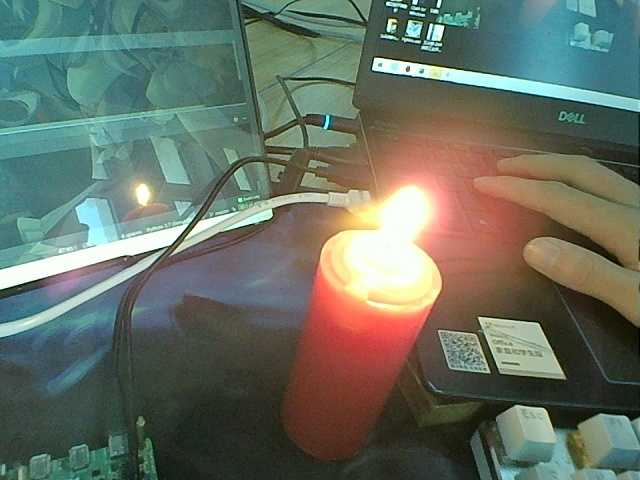candle: (299, 290, 414, 464)
fire: (346, 181, 440, 289)
